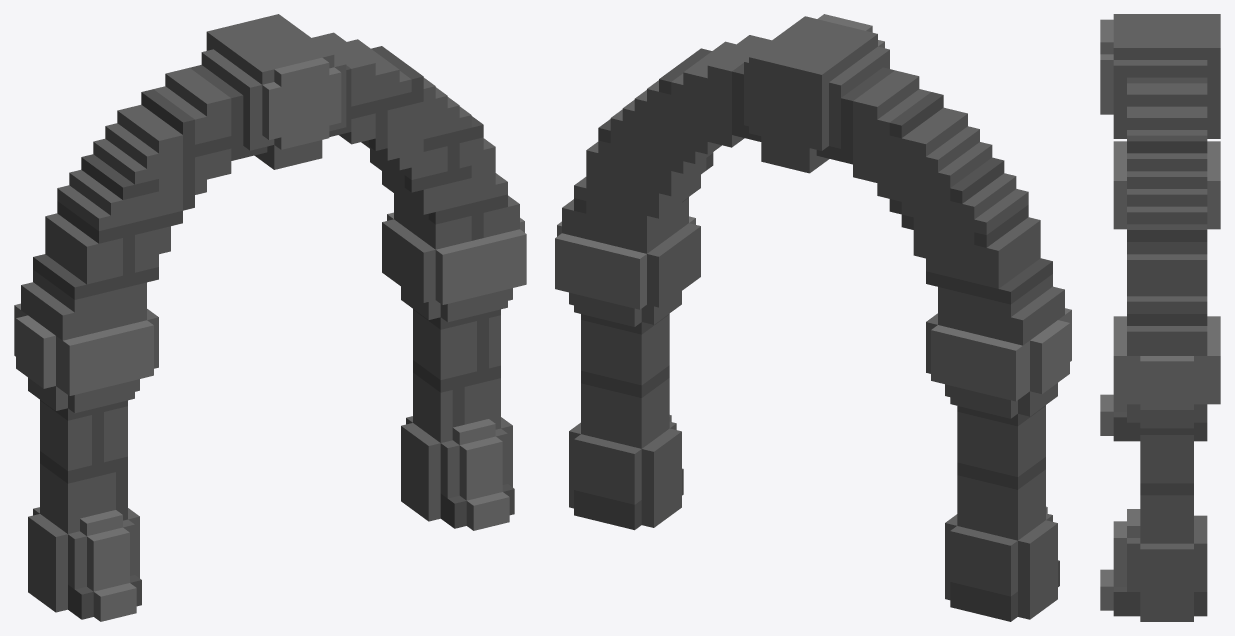
Rendered from Tilemap_Deco_C0_P009.obj.
3 renders of one model, left to right at view 1: azimuth 30°, elevation 25°; view 2: azimuth 150°, elevation 25°; view 3: azimuth 270°, elevation 25°, orthographic. The views are drawn at different scales.
Bounding box in the file's own units: 4 × 4 × 0.9.
1 material, 1 textured.
